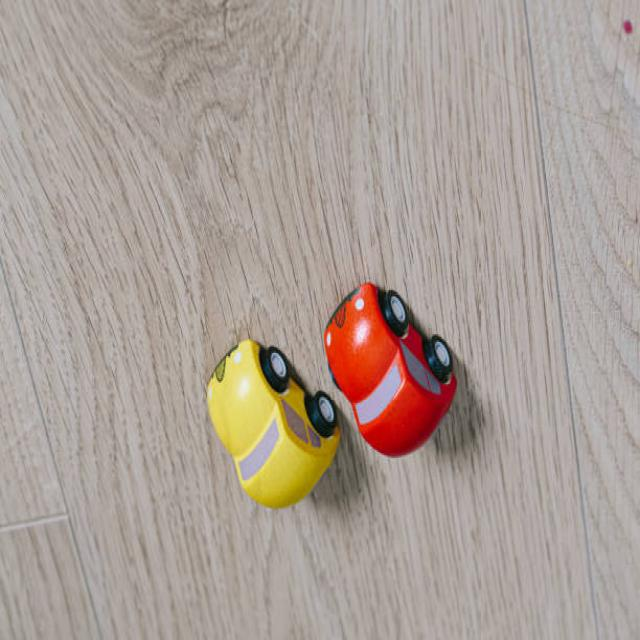Car: (322, 282, 457, 460), (205, 339, 340, 511)
